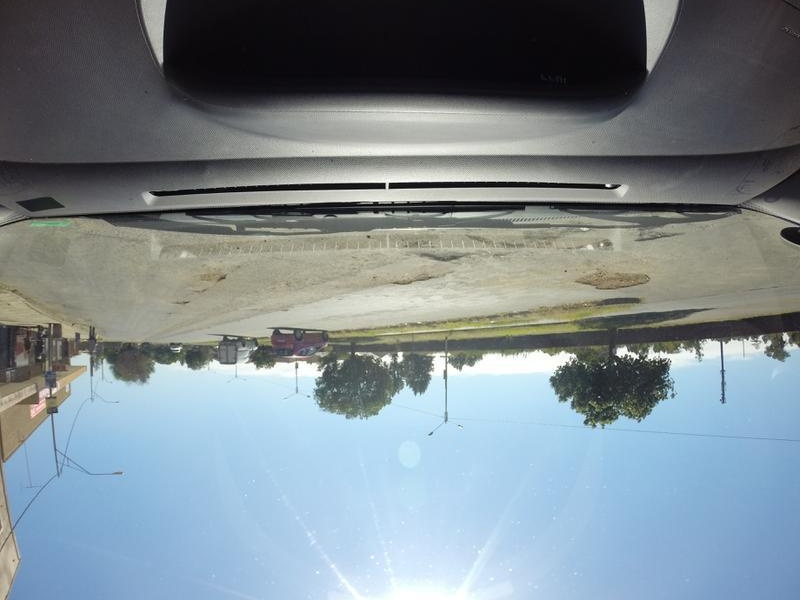pothole: (555, 266, 667, 298), (381, 274, 442, 290), (622, 233, 684, 247), (410, 253, 471, 267), (201, 271, 229, 285)
